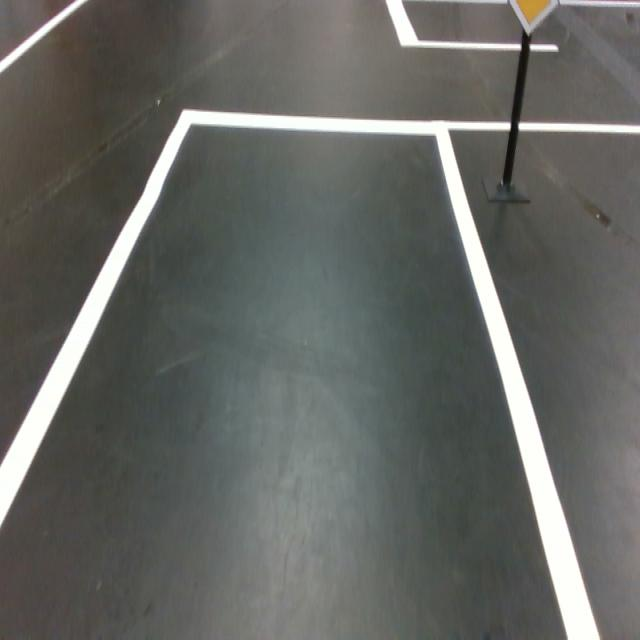priority-sign: (509, 0, 558, 37)
